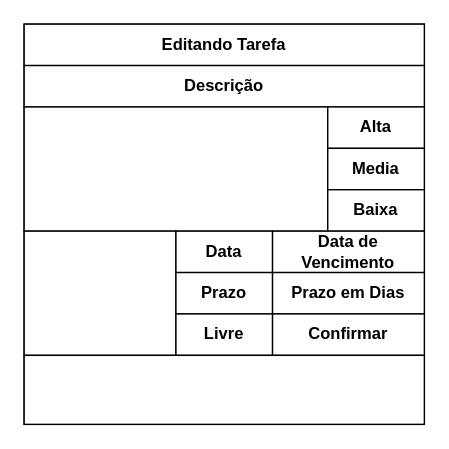
Some shapes in this 449 by 449 pixel diagram are drawn without their labels. The shapes that lost their labels are listed below. From the top down, each one's centre as x and y in pixels, then its label:
(x=175, y=168): Prioridade
(x=99, y=292): Tipo
(x=223, y=389): Cancelar
